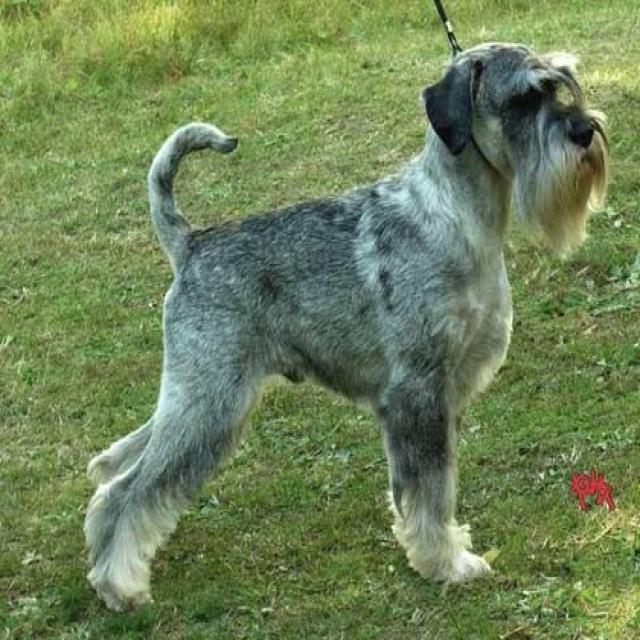standard_schnauzer: (85, 41, 613, 614)
